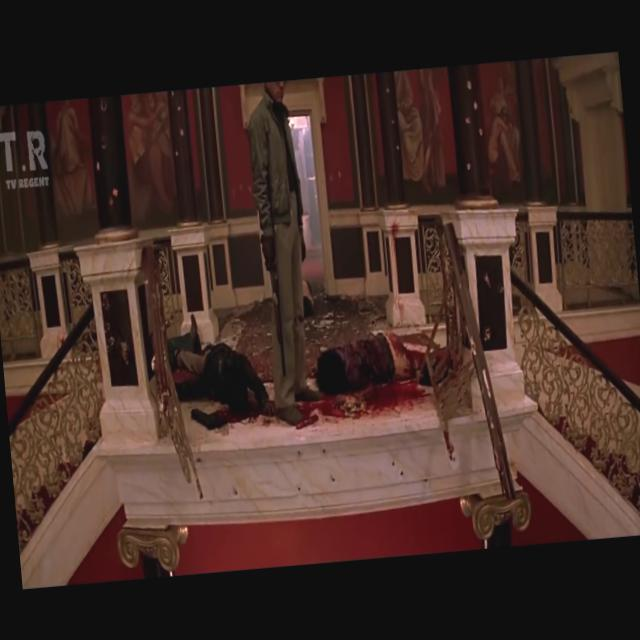long weapon: (254, 204, 299, 384)
